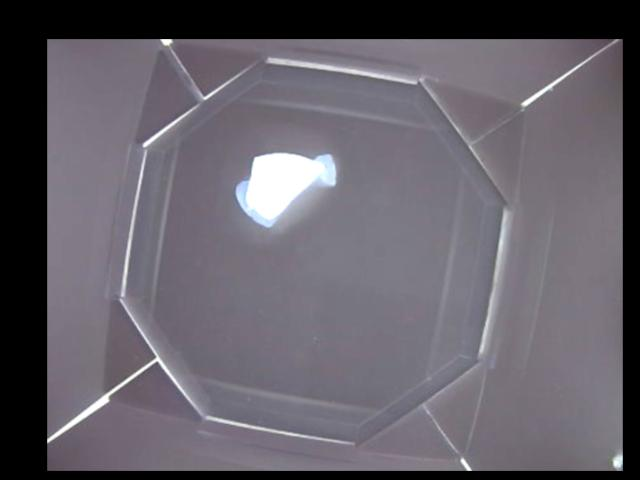China: (232, 145, 335, 227)
